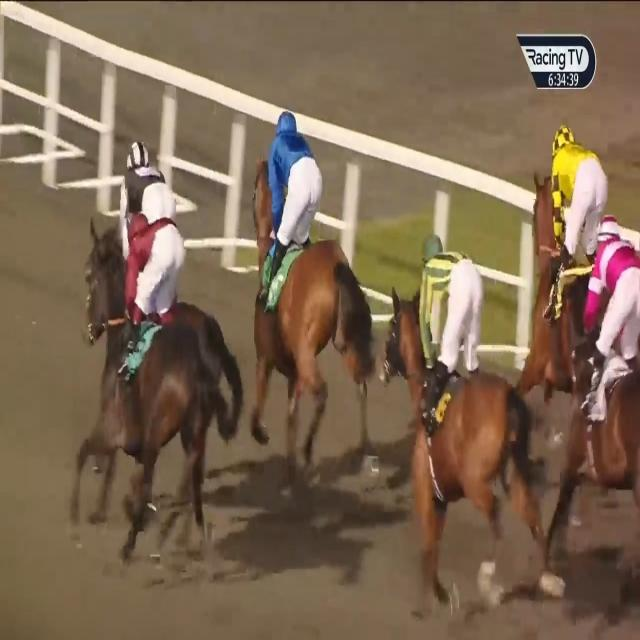horses-racing: (248, 110, 384, 523), (390, 238, 540, 612), (88, 227, 204, 547), (558, 211, 640, 589), (524, 126, 609, 402), (87, 136, 188, 333)
